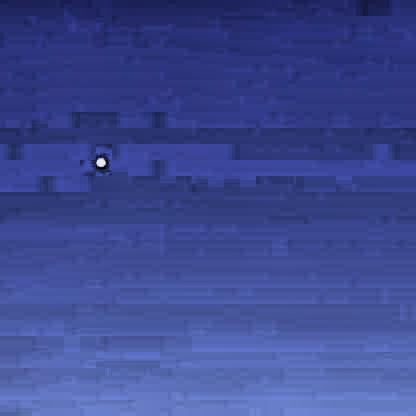golfball: (93, 153, 105, 167)
